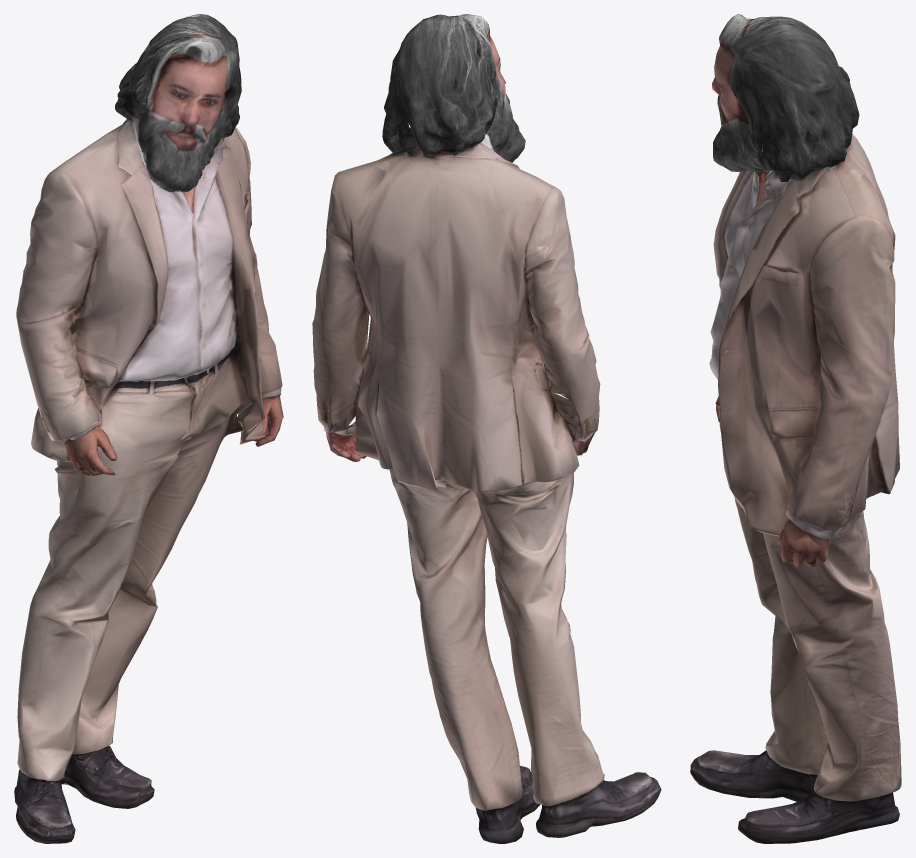
File: laoren2.glb
The picture shows the model from 3 angles, left to right: view 1: azimuth 30°, elevation 25°; view 2: azimuth 150°, elevation 25°; view 3: azimuth 270°, elevation 25°; orthographic projection. The views are drawn at different scales.
Visible parts, largest first — view 1: laoren2; view 2: laoren2; view 3: laoren2.
Boxes of the visible parts, box(x1,y1,x2,y2) form: laoren2: box(14, 14, 283, 843); laoren2: box(312, 14, 661, 843); laoren2: box(690, 14, 901, 843).
Size of the model in its own units: 0.7519 by 1.88 by 0.422.
1 material, 1 textured.
